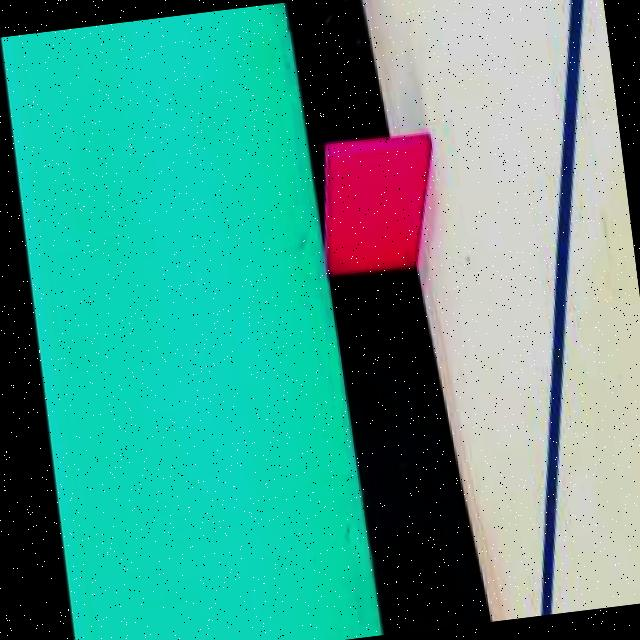xparking: (331, 140, 444, 269)
